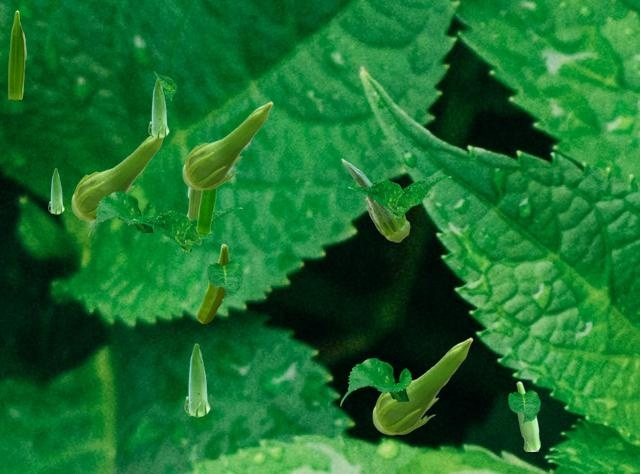okra: (372, 337, 472, 434), (182, 101, 272, 189), (71, 136, 164, 220), (341, 158, 409, 241), (197, 244, 229, 322), (184, 343, 209, 416), (516, 381, 539, 450), (8, 10, 25, 98), (148, 79, 168, 137), (186, 188, 202, 244), (196, 188, 216, 232), (48, 168, 63, 213)
